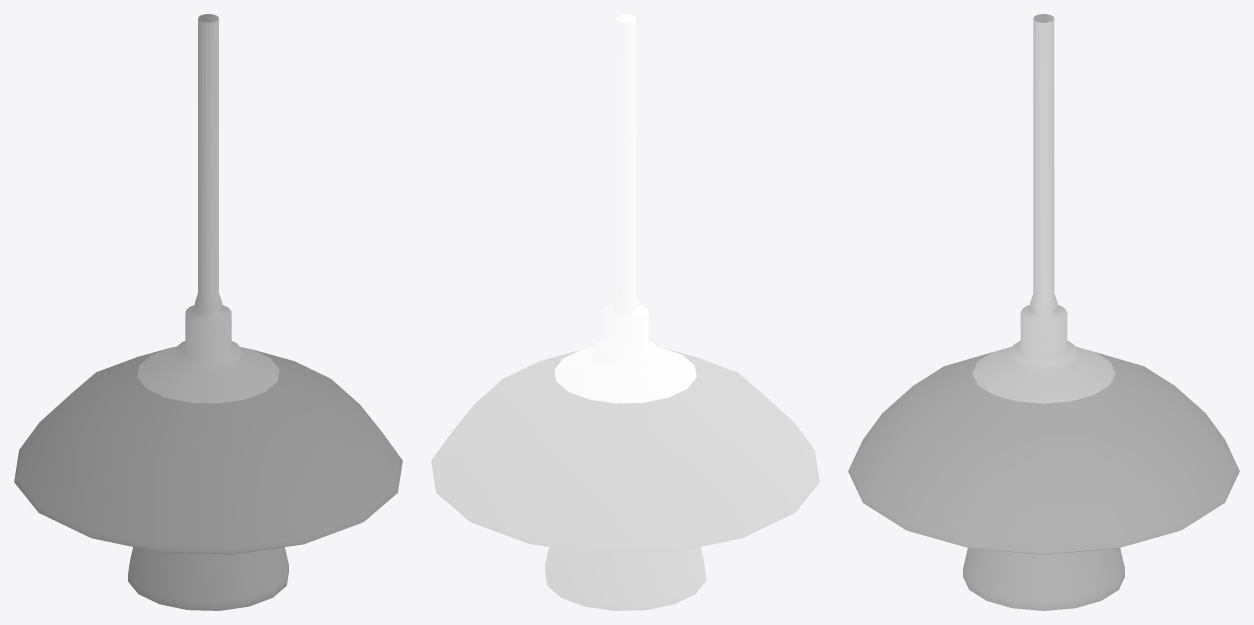
3 renders of one model, left to right at view 1: azimuth 30°, elevation 25°; view 2: azimuth 150°, elevation 25°; view 3: azimuth 270°, elevation 25°, orthographic.
Parts seen in each view (by area): view 1: FP323:Base_5d4d59b3; view 2: FP323:Base_5d4d59b3; view 3: FP323:Base_5d4d59b3.
Part boxes in pixels (box(x1,y1,x2,y2)): FP323:Base_5d4d59b3: box(14, 14, 402, 610); FP323:Base_5d4d59b3: box(431, 14, 819, 610); FP323:Base_5d4d59b3: box(848, 14, 1239, 610).
Bounding box in the file's own units: 0.4184 × 0.6578 × 0.4184.
